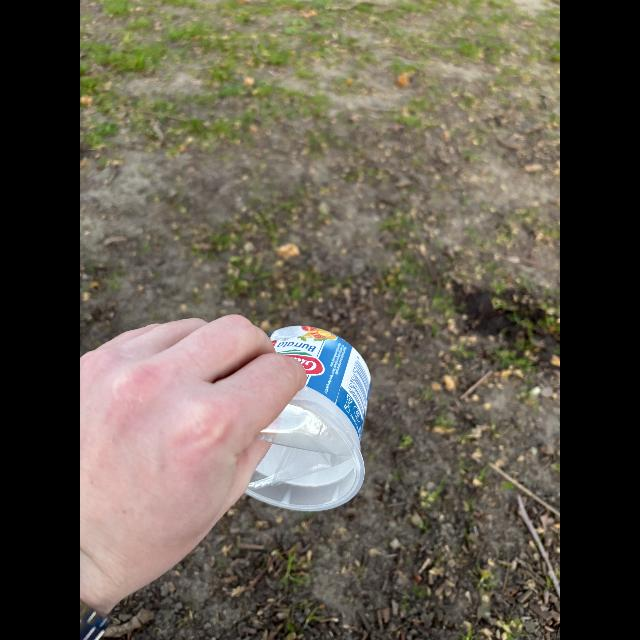Plastic: (234, 316, 376, 516)
